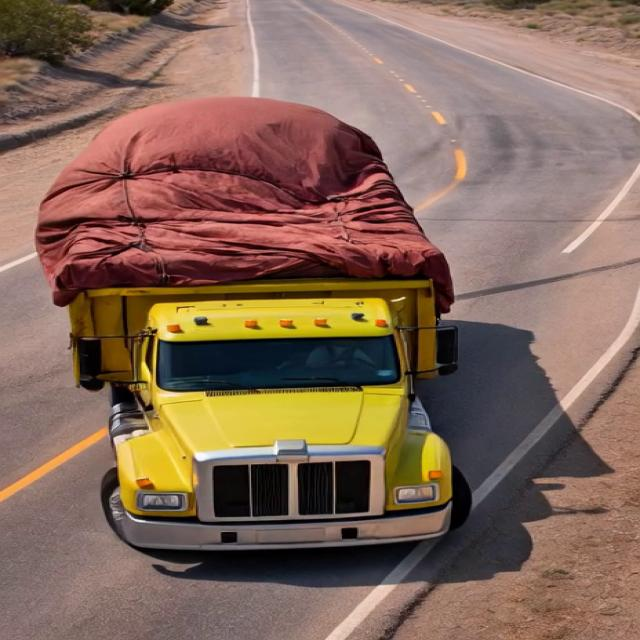trailer: (34, 156, 472, 284)
truck: (27, 122, 534, 551)
